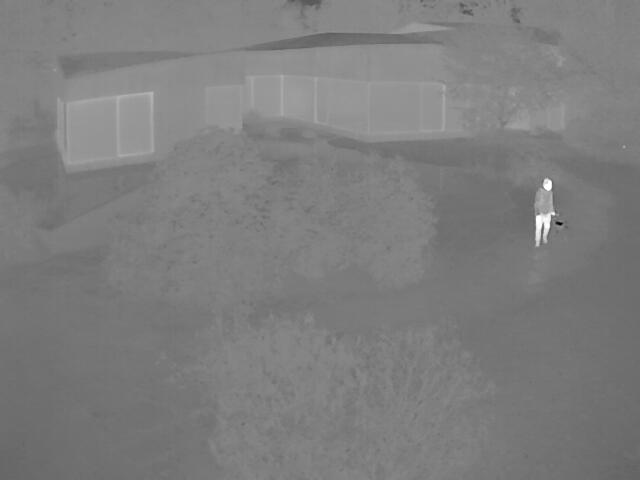person: (532, 177, 554, 247)
